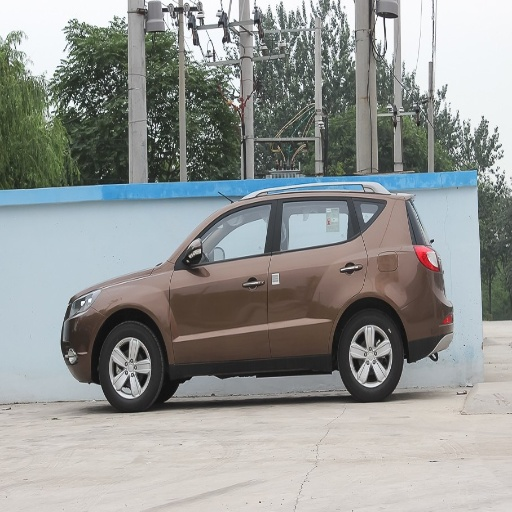back_left_door: (267, 195, 367, 357)
front_left_door: (170, 197, 275, 360)
